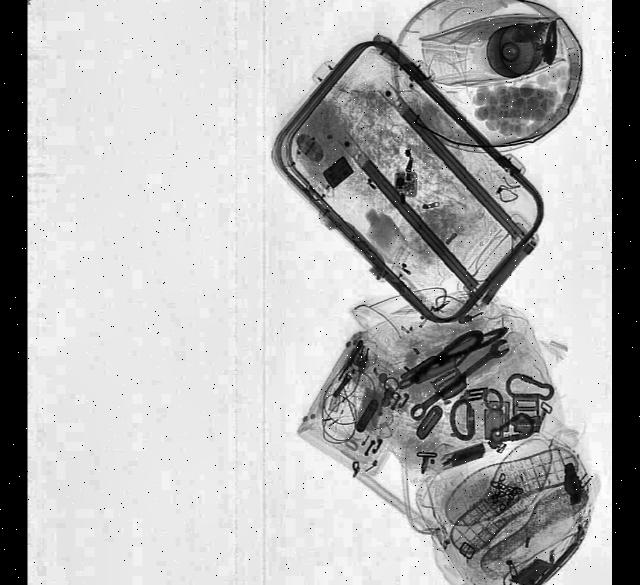Wrench: (408, 333, 514, 424)
